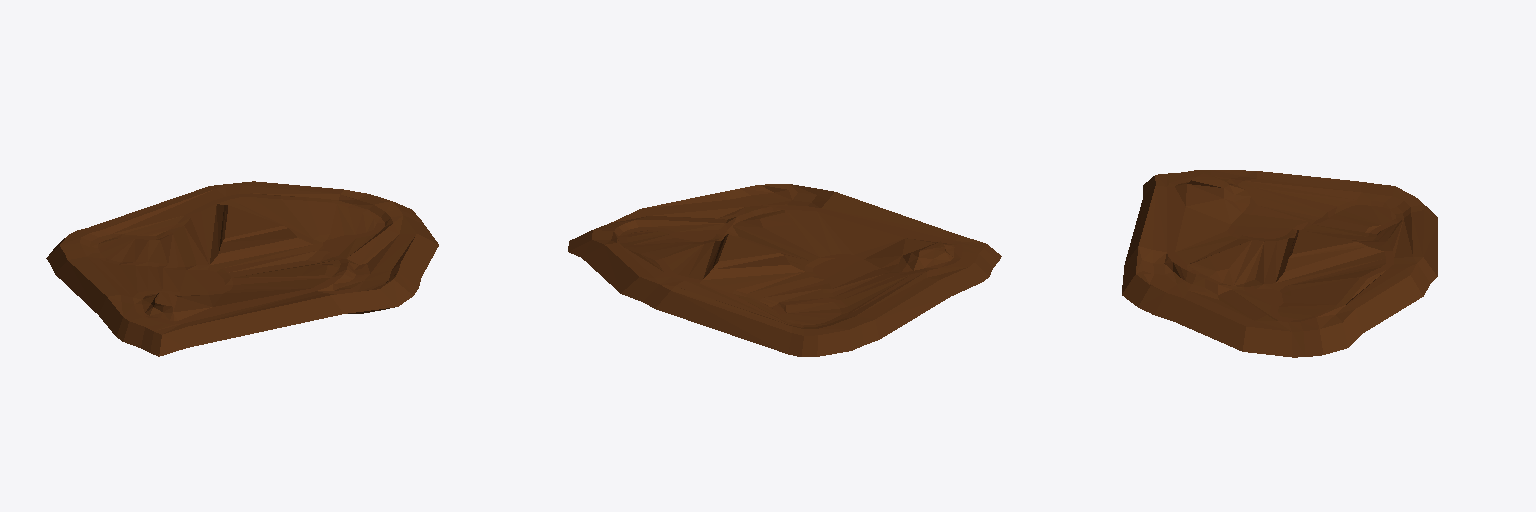
Rendered from circuito.obj.
The picture shows the model from 3 angles: view 1: azimuth 30°, elevation 25°; view 2: azimuth 150°, elevation 25°; view 3: azimuth 270°, elevation 25°; orthographic projection.
Parts seen in each view (by area): view 1: circuito_Cube.038; view 2: circuito_Cube.038; view 3: circuito_Cube.038.
Part boxes in pixels (bbox=[...]): circuito_Cube.038: bbox=[46, 181, 438, 356]; circuito_Cube.038: bbox=[568, 184, 1001, 356]; circuito_Cube.038: bbox=[1122, 170, 1437, 357].
Size of the model in its own units: 1310 by 140 by 1013.